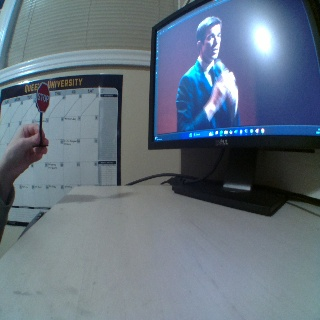sign_stop: (36, 82, 50, 111)
